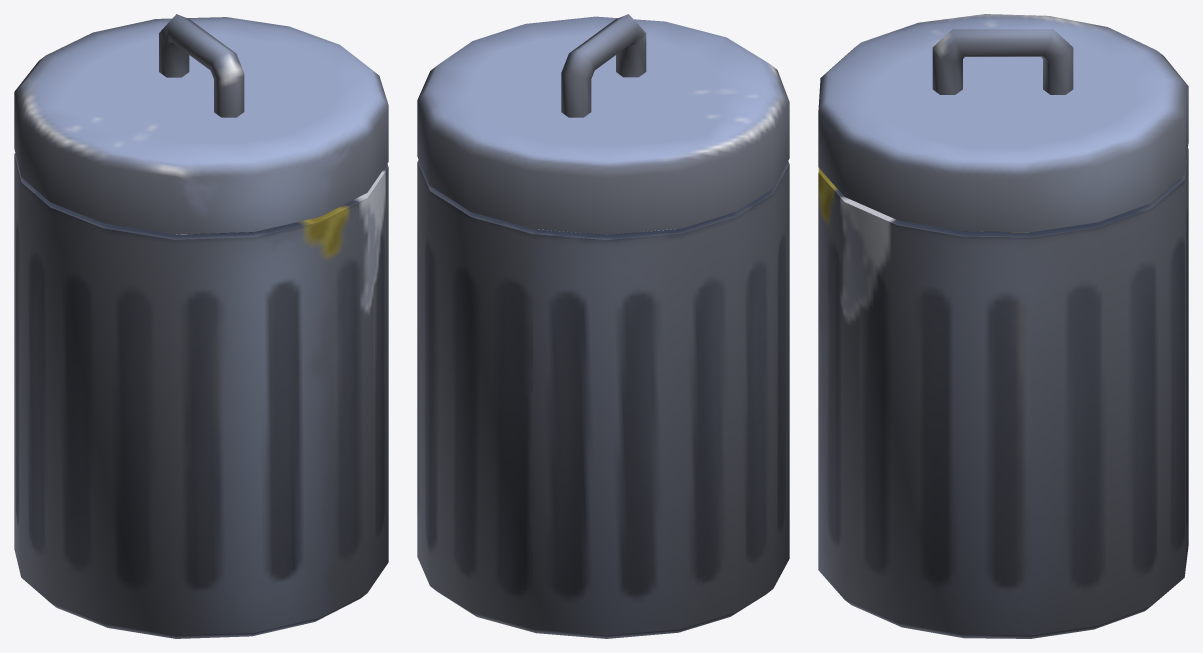
The model's file is Trash_Box_Mexican.fbx.
3 renders of one model, left to right at view 1: azimuth 30°, elevation 25°; view 2: azimuth 150°, elevation 25°; view 3: azimuth 270°, elevation 25°, orthographic.
Visible parts, largest first — view 1: Trash_Box001, Trash_Box_Top001; view 2: Trash_Box001, Trash_Box_Top001; view 3: Trash_Box001, Trash_Box_Top001.
Boxes of the visible parts, x1,y1,x2,y2 form: Trash_Box001: [14, 153, 388, 638]; Trash_Box_Top001: [14, 14, 388, 234]; Trash_Box001: [417, 160, 789, 638]; Trash_Box_Top001: [417, 14, 789, 234]; Trash_Box001: [818, 148, 1188, 638]; Trash_Box_Top001: [818, 14, 1188, 232].
Size of the model in its own units: 83.51 by 133 by 83.2.
